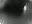person: (23, 5, 29, 16)
